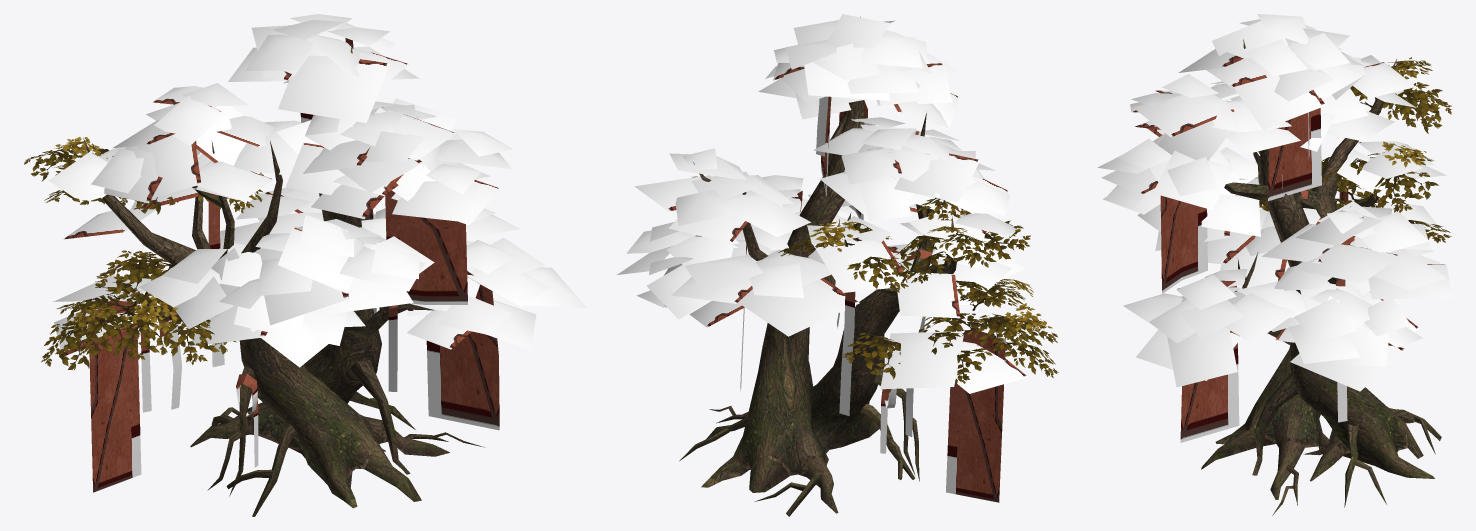
File: 4005_Item_shu_1.FBX
3 renders of one model, left to right at view 1: azimuth 30°, elevation 25°; view 2: azimuth 150°, elevation 25°; view 3: azimuth 270°, elevation 25°, orthographic. The views are drawn at different scales.
Parts seen in each view (by area): view 1: 4005_Item_shu_1; view 2: 4005_Item_shu_1; view 3: 4005_Item_shu_1.
Boxes of the visible parts, <box> form: 4005_Item_shu_1: <box>24,14,586,516</box>; 4005_Item_shu_1: <box>617,14,1058,516</box>; 4005_Item_shu_1: <box>1097,14,1452,515</box>.
Bounding box in the file's own units: 1226 × 1198 × 907.
